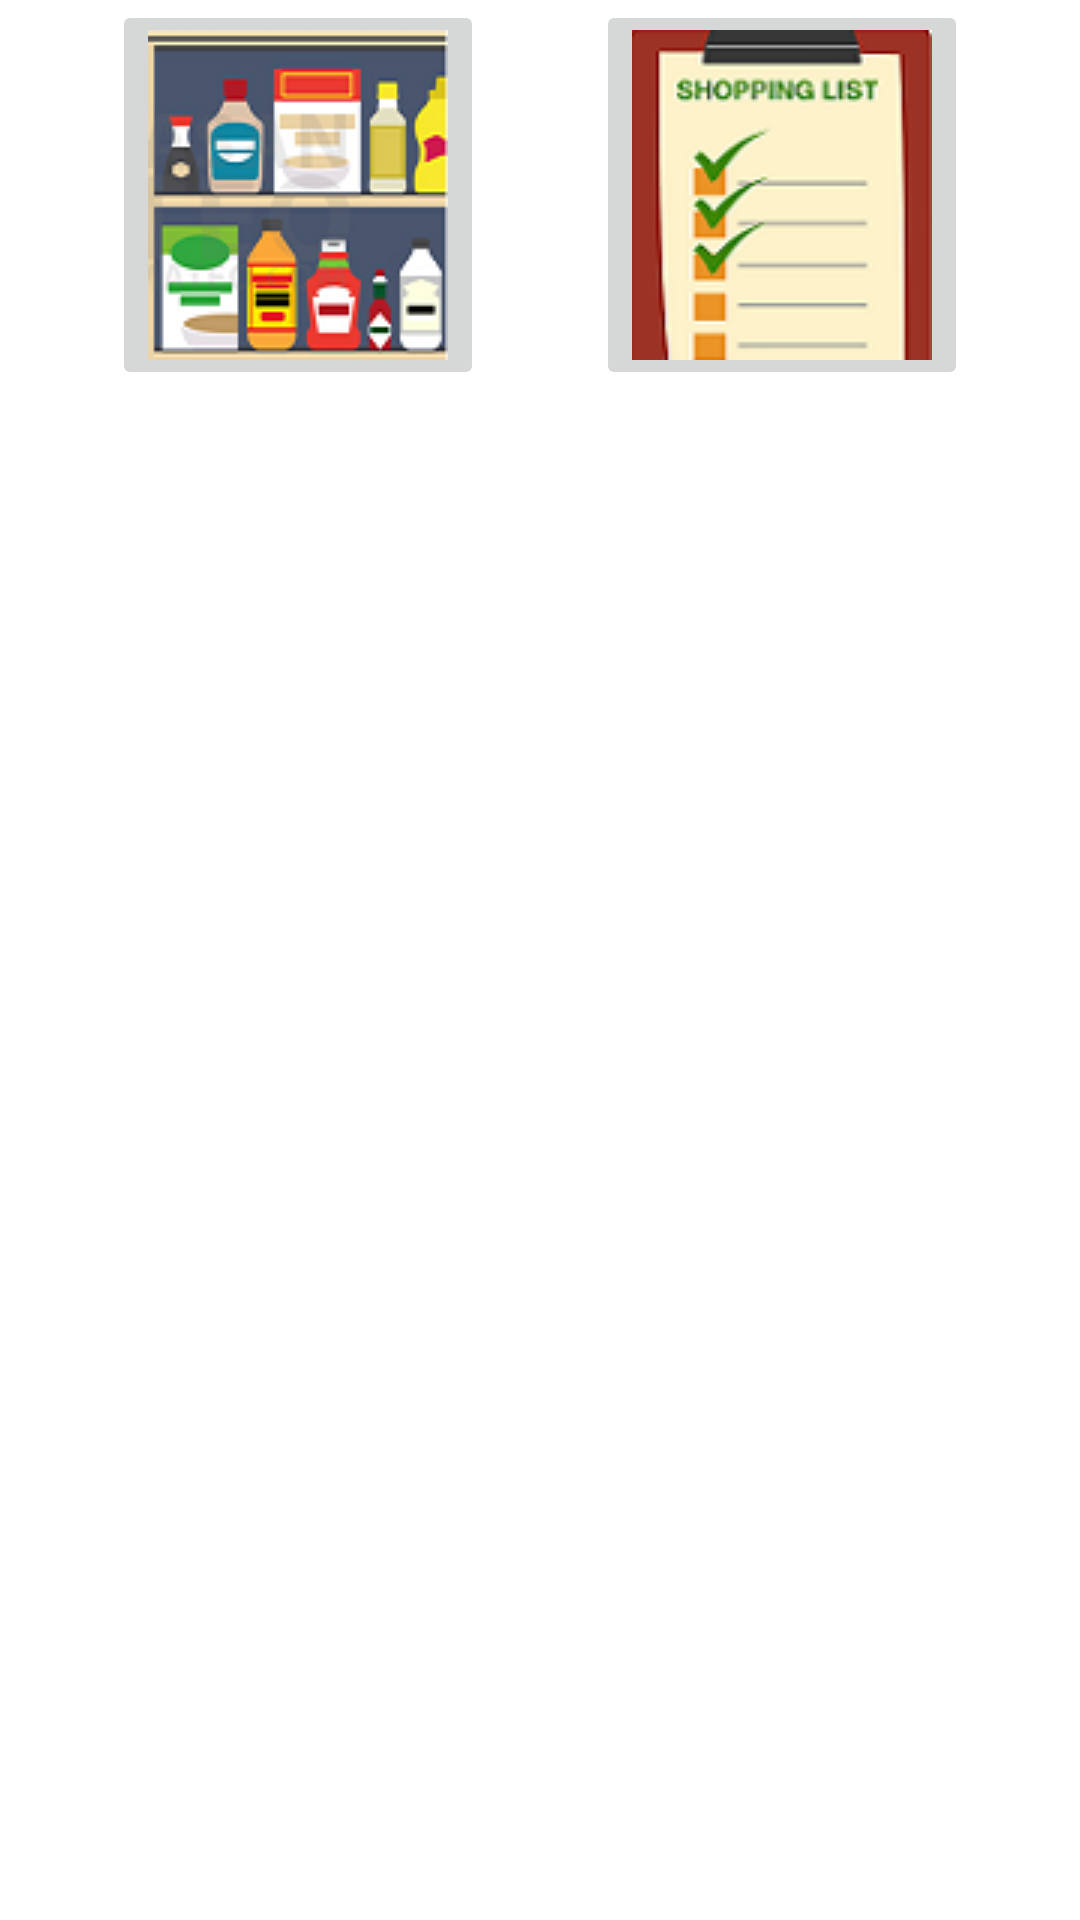

Point at icon controls on the screen. Image size 1080*1920, points as (x,y).
pantry: (298,195)
